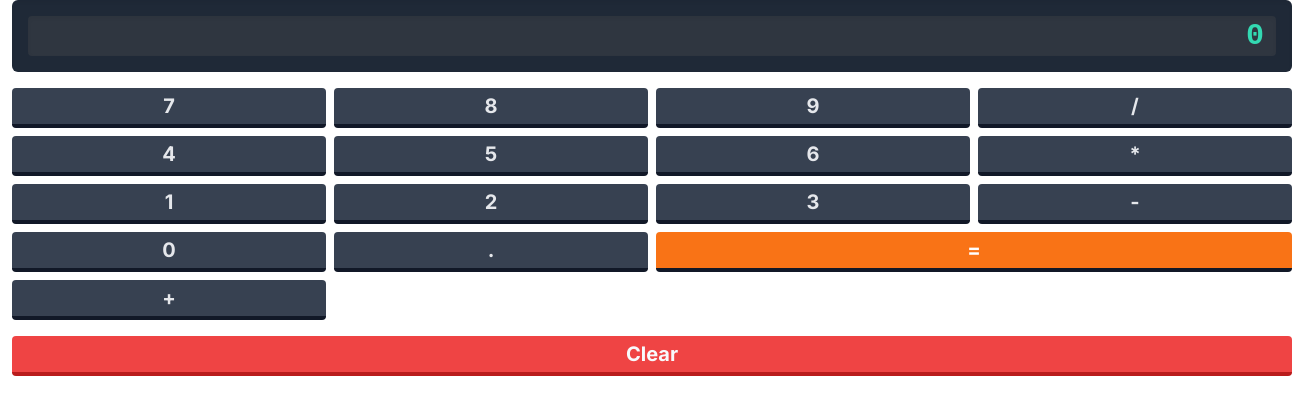
Scenario: NumbersCalculator › UI Interactions › Expression Evaluation › should calculate and display result when equals is pressed
Click the button "1" at (169, 204), box [12, 184, 326, 224]
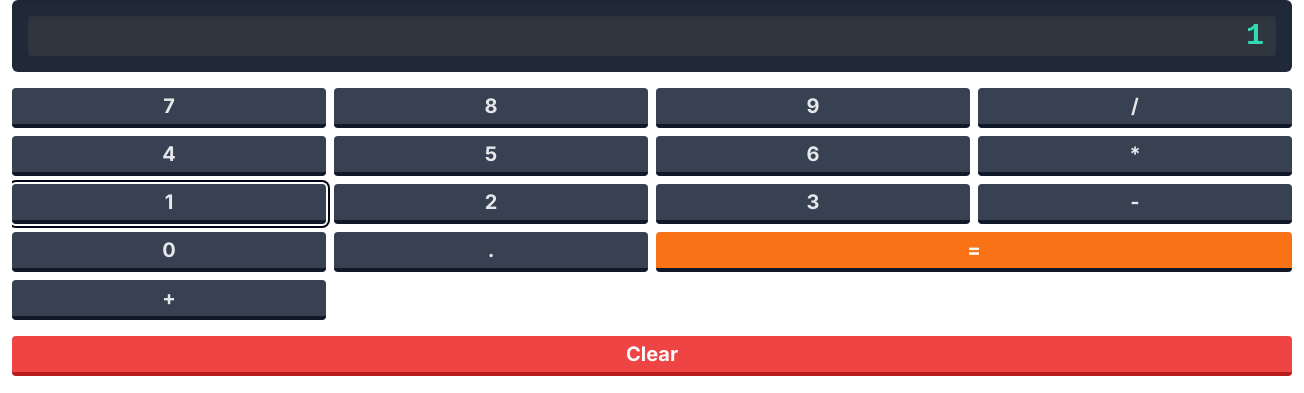
Click the button "+" at (169, 300), box [12, 280, 326, 320]
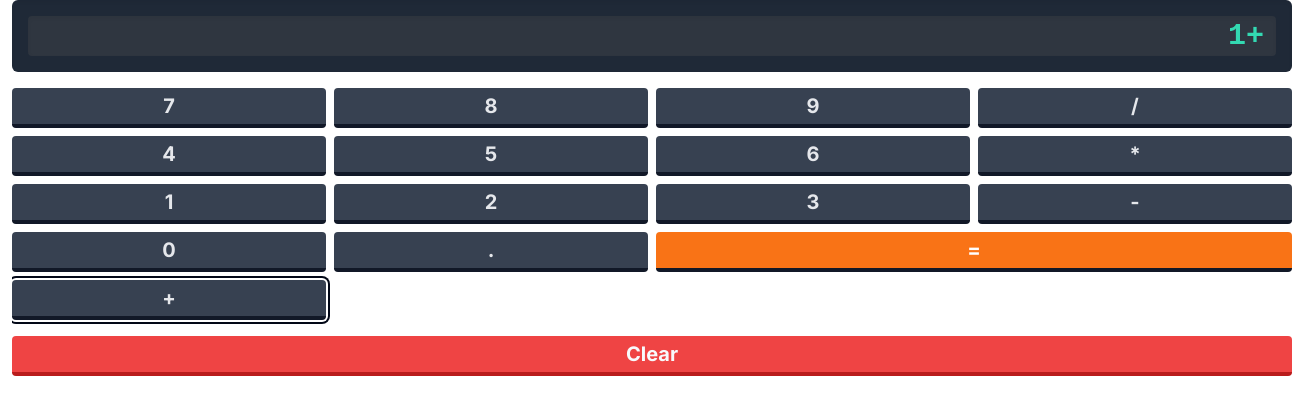
Click the button "1" at (169, 204), box [12, 184, 326, 224]
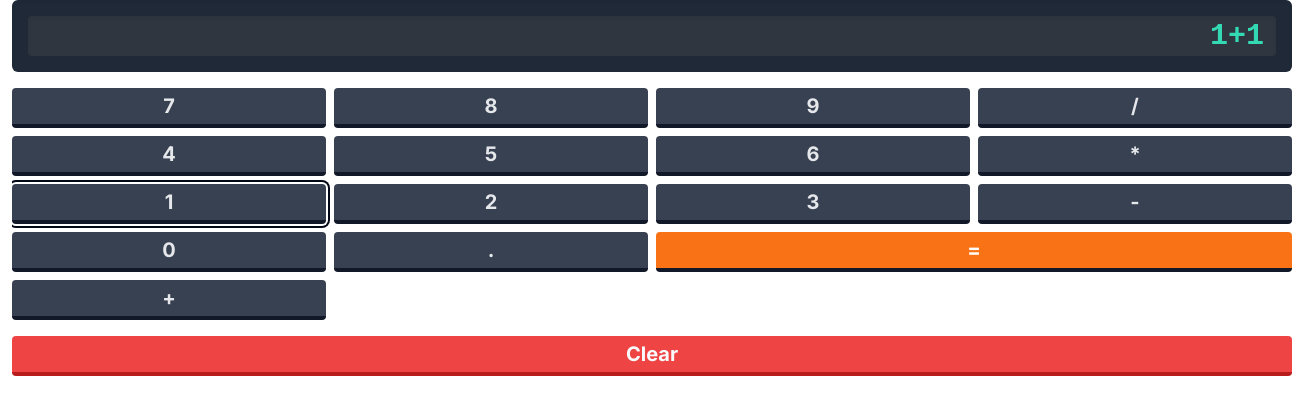
Click the button "=" at (974, 252), box [656, 232, 1292, 272]
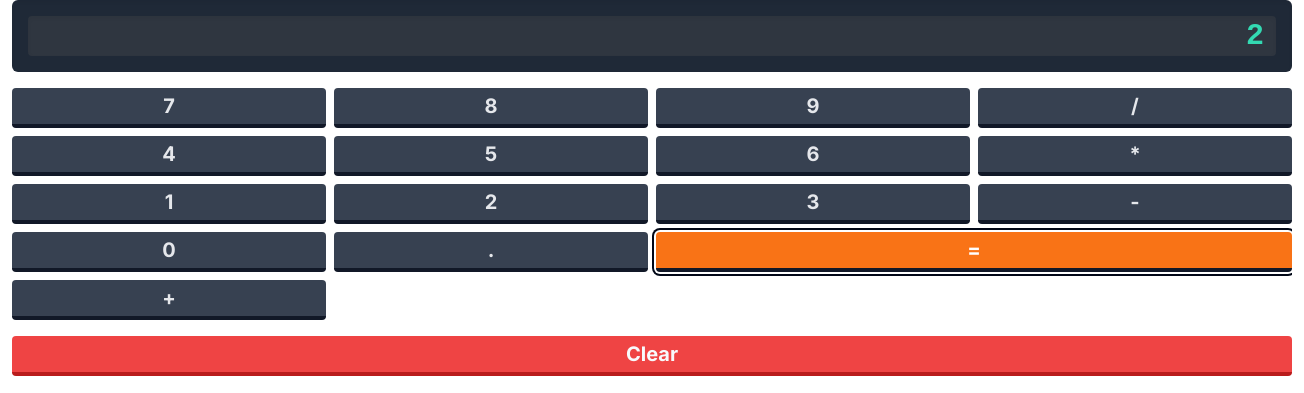
Result: the field holds "2" at [28, 16, 1276, 56]
